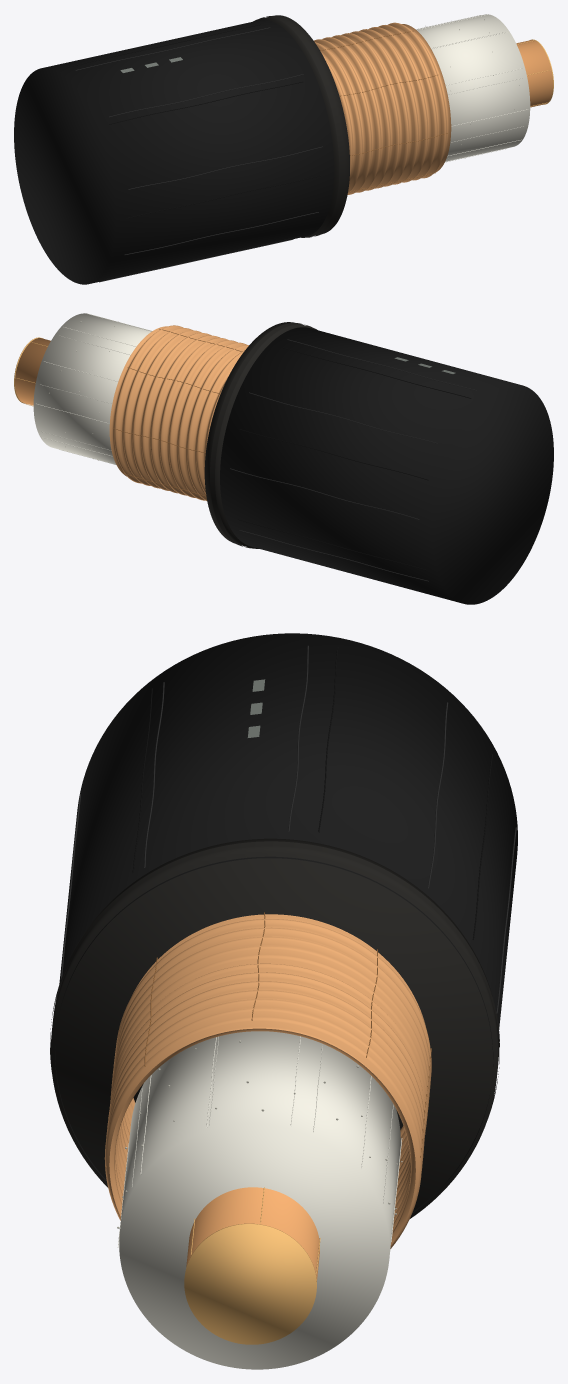
The model's file is rf-fsj2-macro.glb.
3 renders of one model, top to bottom at view 1: azimuth 30°, elevation 25°; view 2: azimuth 150°, elevation 25°; view 3: azimuth 270°, elevation 25°, orthographic. The views are drawn at different scales.
Visible parts, largest first — view 1: macro hardline jacket body, annular corrugated solid shield, macro foam dielectric exposed core, hardline jacket cut wall, polished solid center conductor, rounded jacket cut lip; view 2: macro hardline jacket body, annular corrugated solid shield, macro foam dielectric exposed core, hardline jacket cut wall, rounded jacket cut lip, polished solid center conductor; view 3: macro hardline jacket body, macro foam dielectric exposed core, hardline jacket cut wall, annular corrugated solid shield, polished conductor cut face glow, polished solid center conductor, rounded jacket cut lip, inner jacket shadow bevel.
Part boxes in pixels (left/top/right/bottom): macro hardline jacket body: left=14, top=19, right=334, bottom=284; annular corrugated solid shield: left=314, top=22, right=451, bottom=194; macro foam dielectric exposed core: left=416, top=14, right=530, bottom=161; hardline jacket cut wall: left=253, top=15, right=349, bottom=237; polished solid center conductor: left=516, top=40, right=552, bottom=107; rounded jacket cut lip: left=259, top=16, right=344, bottom=237; macro hardline jacket body: left=220, top=327, right=553, bottom=604; annular corrugated solid shield: left=109, top=325, right=248, bottom=500; macro foam dielectric exposed core: left=33, top=313, right=151, bottom=464; hardline jacket cut wall: left=205, top=322, right=317, bottom=548; rounded jacket cut lip: left=210, top=323, right=311, bottom=548; polished solid center conductor: left=15, top=338, right=50, bottom=405; macro hardline jacket body: left=59, top=633, right=517, bottom=1029; macro foam dielectric exposed core: left=119, top=1031, right=400, bottom=1369; hardline jacket cut wall: left=50, top=838, right=499, bottom=1218; annular corrugated solid shield: left=104, top=914, right=431, bottom=1248; polished conductor cut face glow: left=184, top=1223, right=316, bottom=1344; polished solid center conductor: left=186, top=1187, right=319, bottom=1280; rounded jacket cut lip: left=50, top=841, right=499, bottom=1115; inner jacket shadow bevel: left=55, top=856, right=493, bottom=1213.
Bounding box in the file's own units: 6.5 × 2.71 × 2.82.
